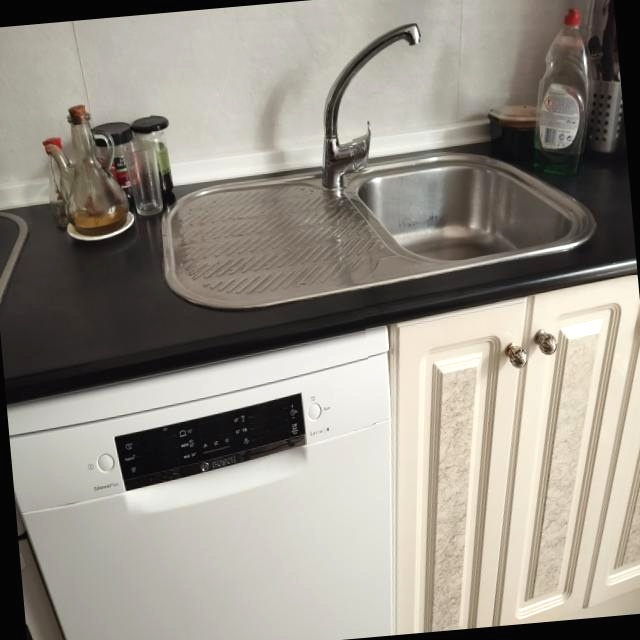cabinet: (387, 275, 640, 634)
countertop: (0, 137, 636, 394)
shower: (161, 24, 598, 310)
sofa: (0, 212, 28, 313)
